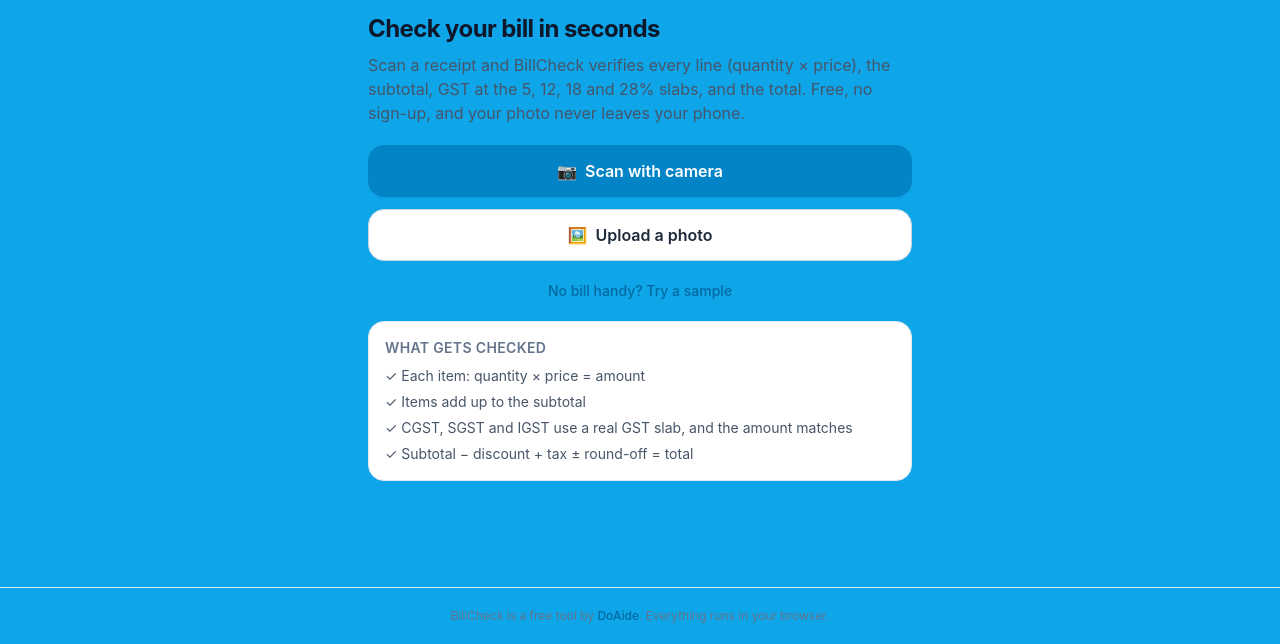
it: BillCheck › re-checks when a misread number is corrected
Click the button "No bill handy? Try a sample" at (640, 291), box [368, 281, 912, 301]
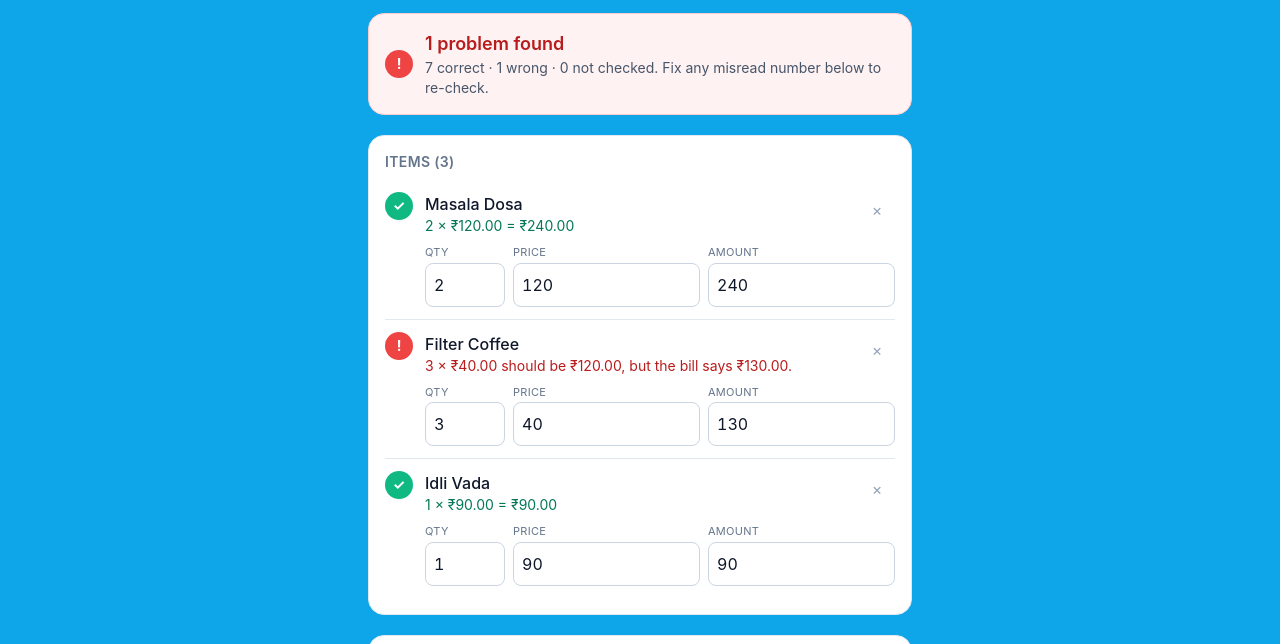
Replace the text in the number field labelled "Amount" below "Filter Coffee" with "120" at (802, 424), box [708, 402, 895, 446]
(page scrolled)
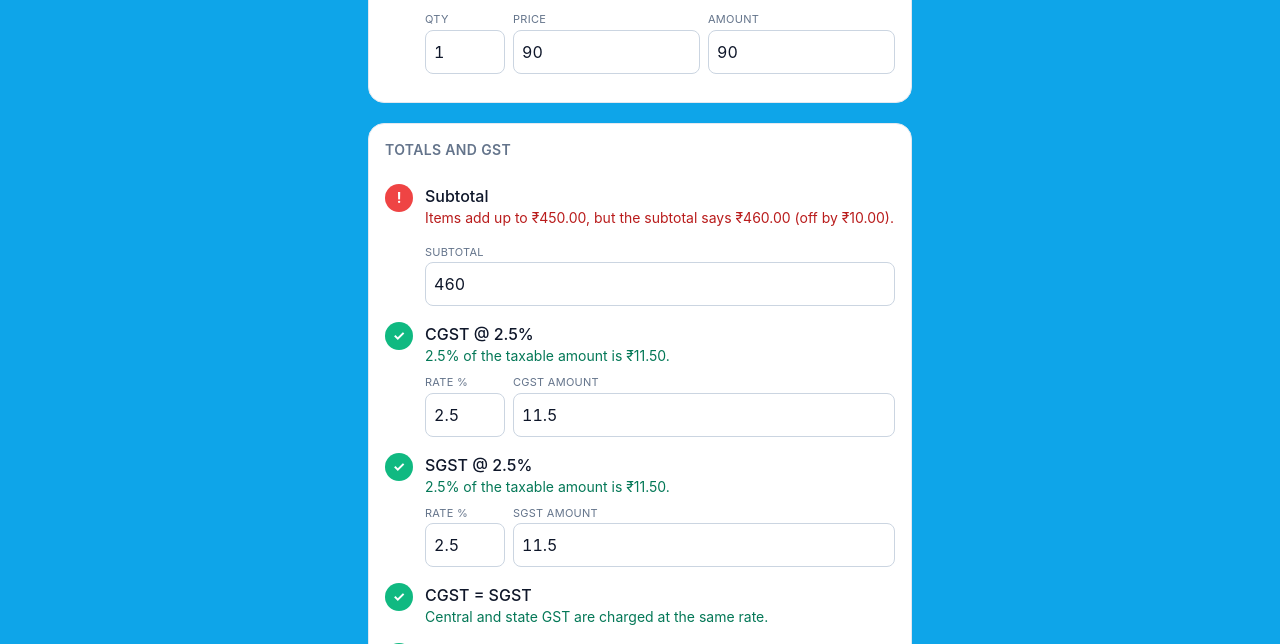
Replace the text in the number field labelled "Subtotal" with "450" at (660, 284), box [425, 262, 895, 306]
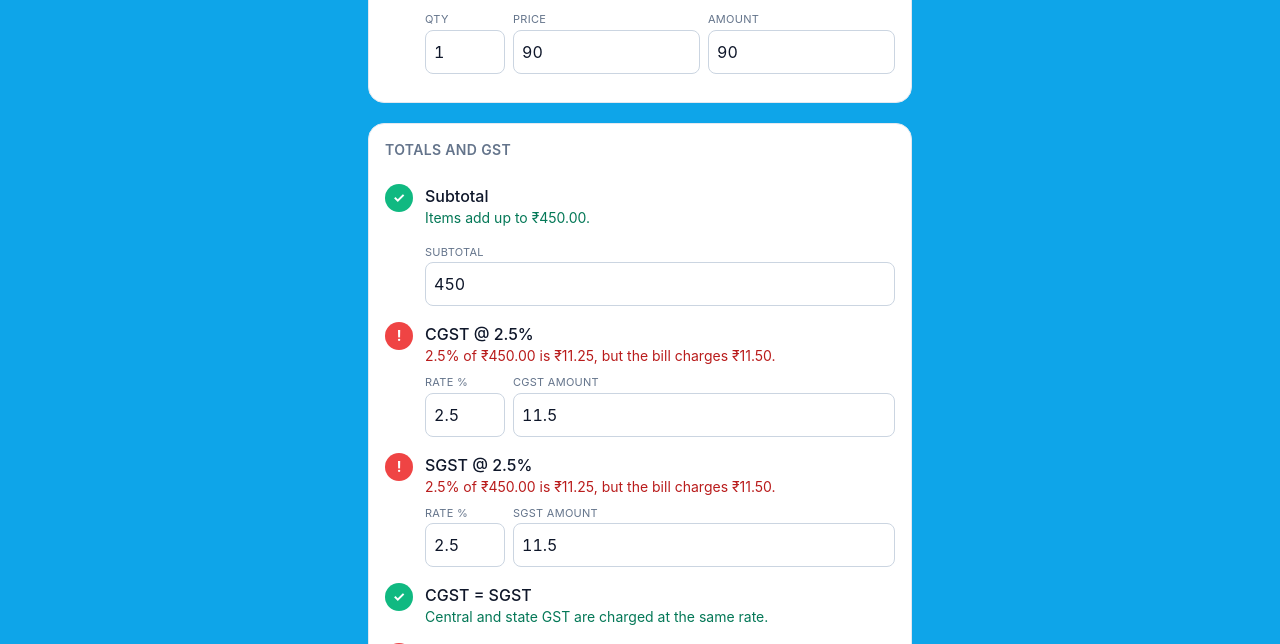
Replace the text in the number field labelled "CGST amount" with "11.25" at (704, 414), box [513, 392, 895, 436]
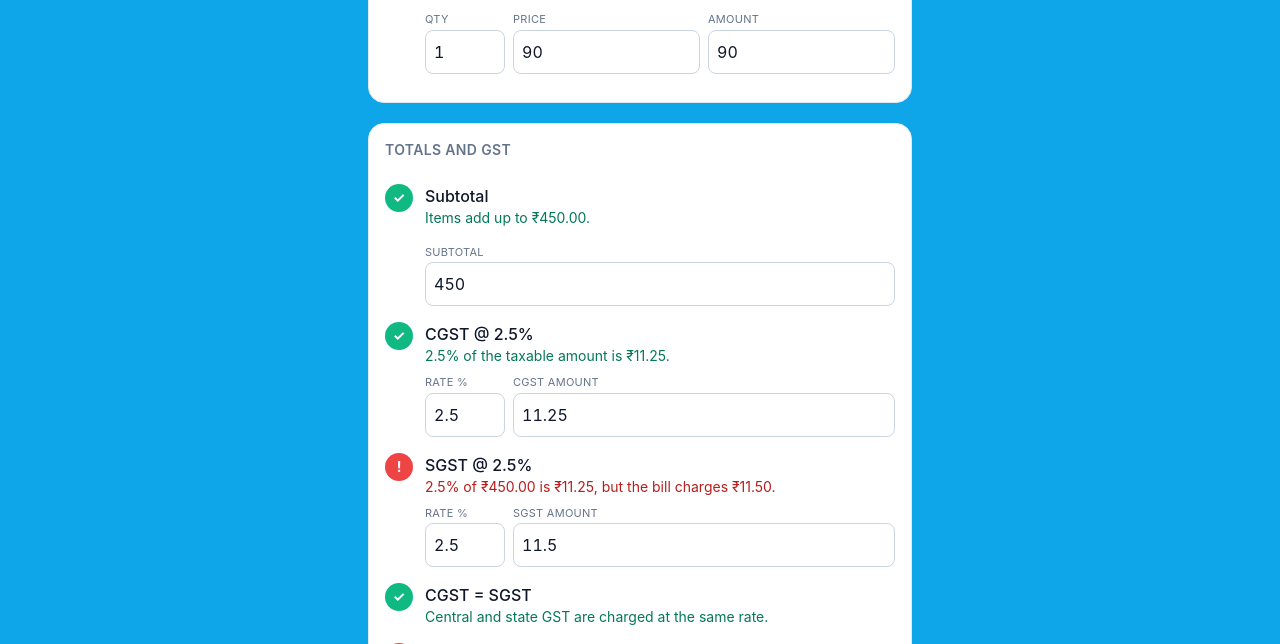
Replace the text in the number field labelled "SGST amount" with "11.25" at (704, 545), box [513, 523, 895, 567]
(page scrolled)
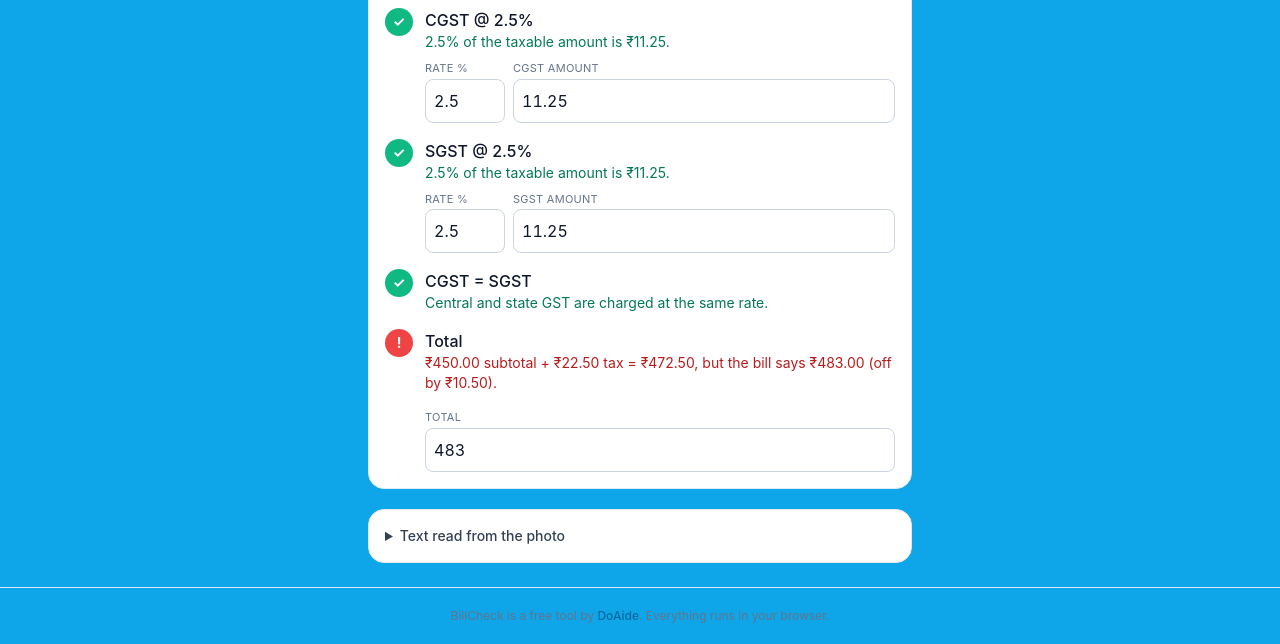
Replace the text in the number field labelled "Total" with "472.5" at (660, 450), box [425, 428, 895, 472]
(page scrolled)
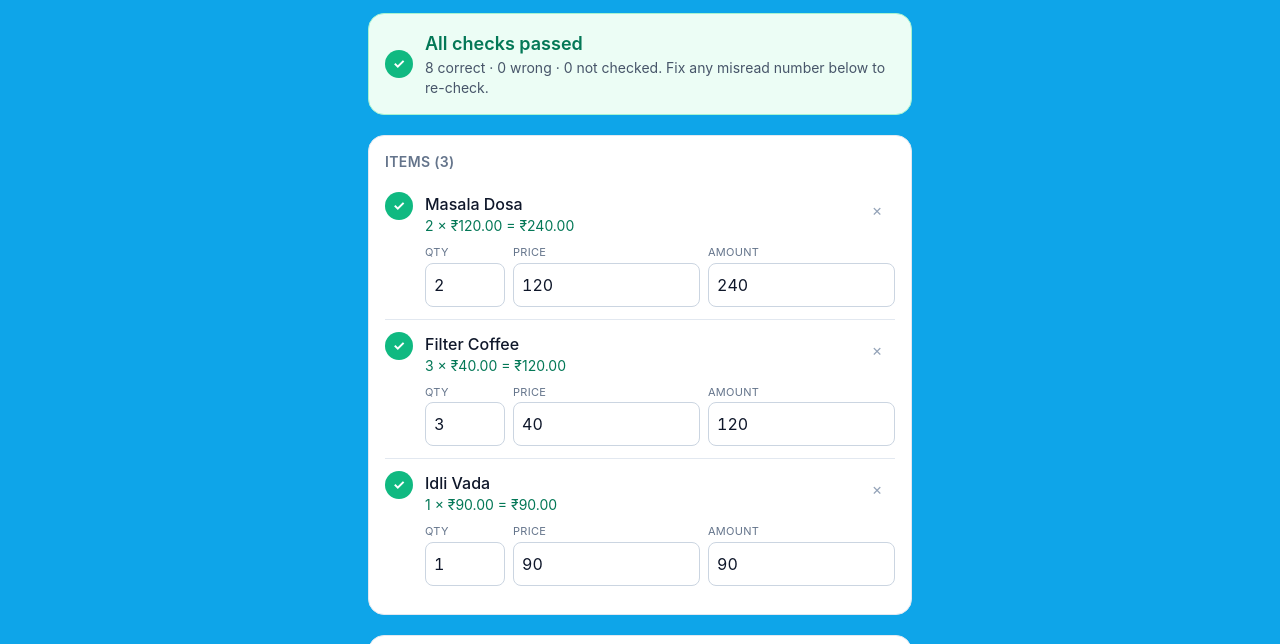
Result: the message with test id "summary" shows "All checks passed" at [425, 33, 583, 54]
